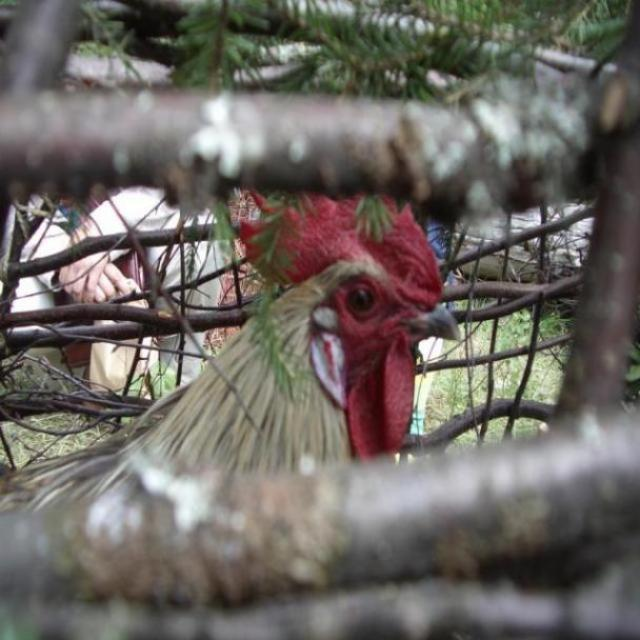Chicken: (0, 177, 458, 639)
